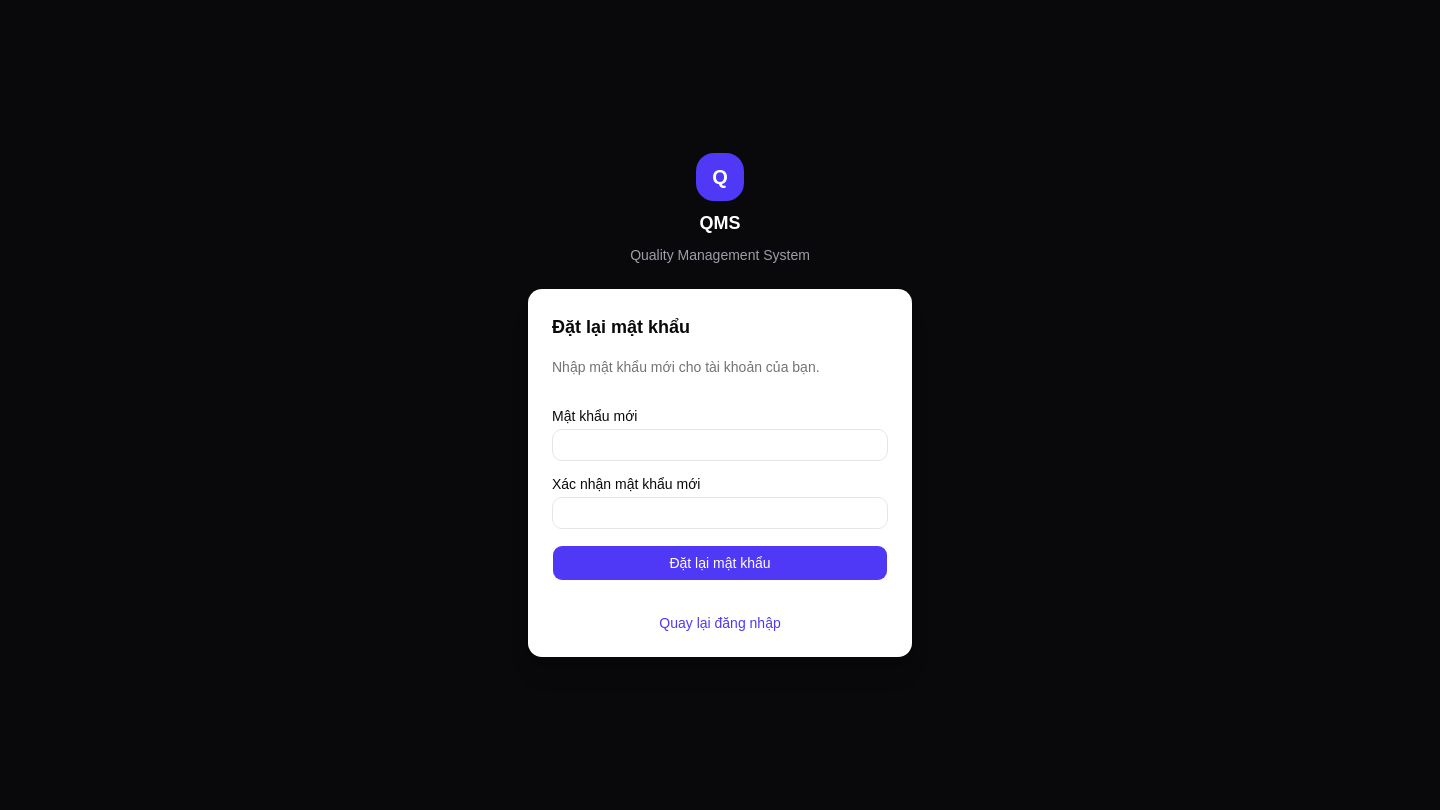
Test: ResetPasswordPage › redirects to /login on success
Type "password123" into the password field labelled "Mật khẩu mới" at (720, 445), box left=552, top=429, right=888, bottom=461
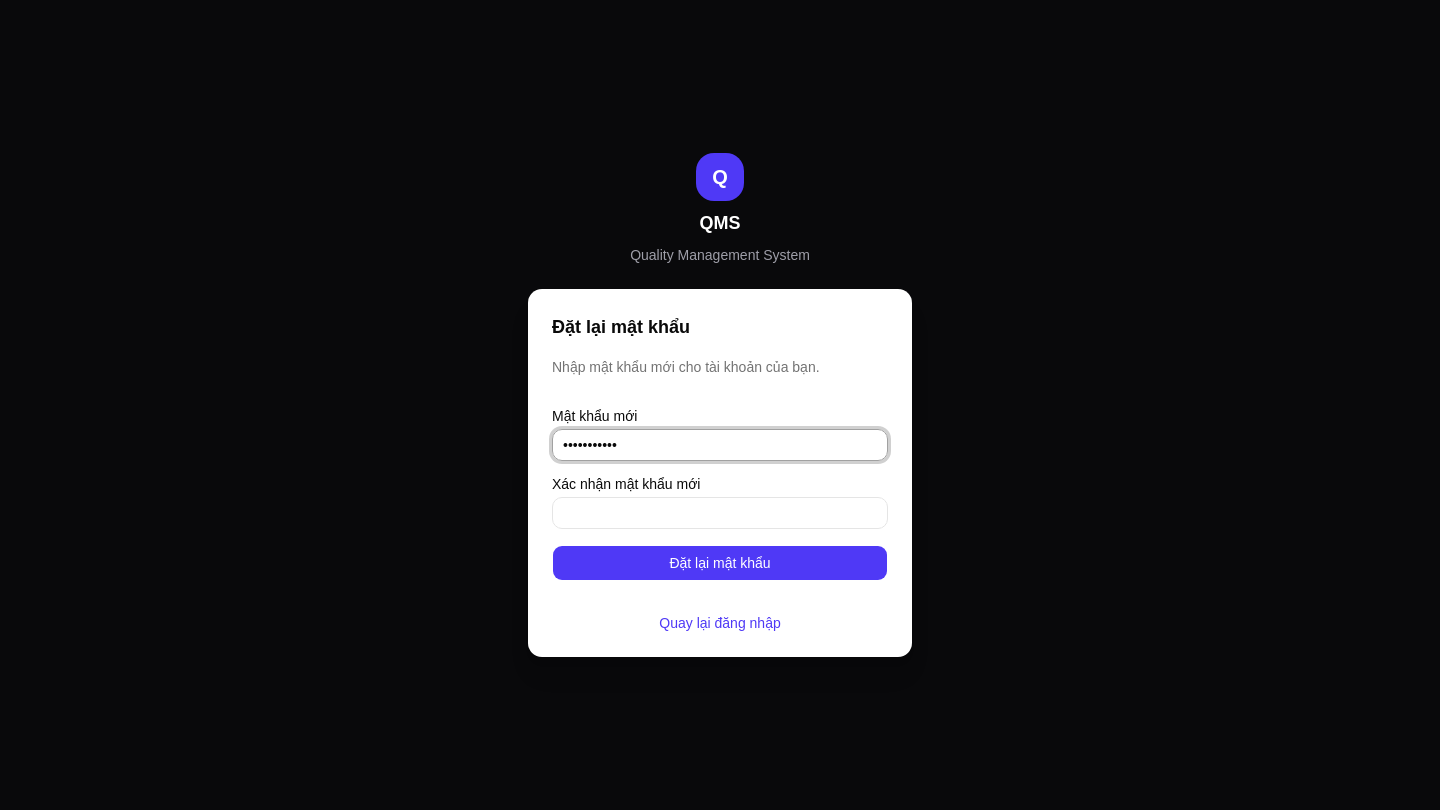
Type "password123" into the password field labelled "Xác nhận mật khẩu mới" at (720, 513), box left=552, top=497, right=888, bottom=529
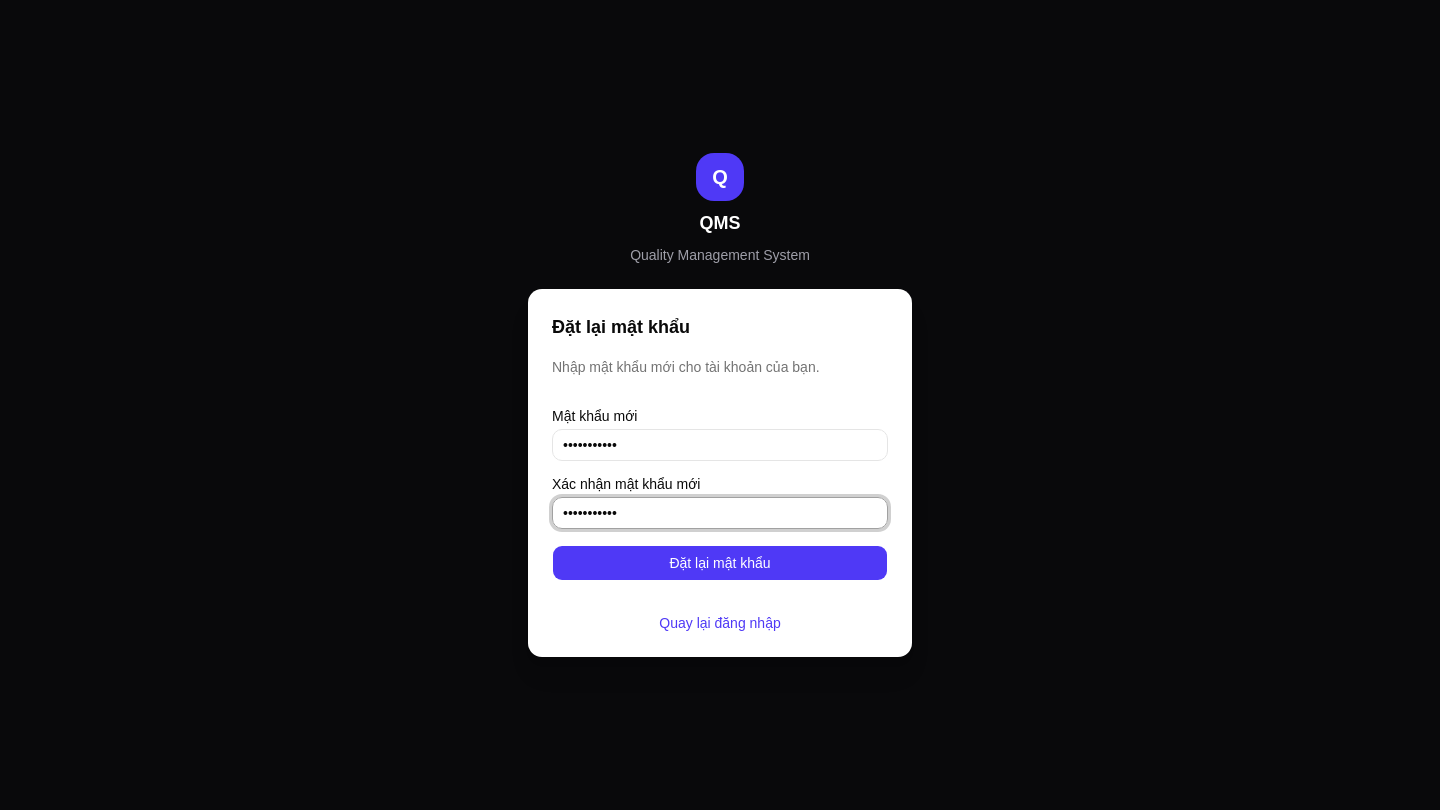
Click the button "Đặt lại mật khẩu" at (720, 563), box left=552, top=545, right=888, bottom=581
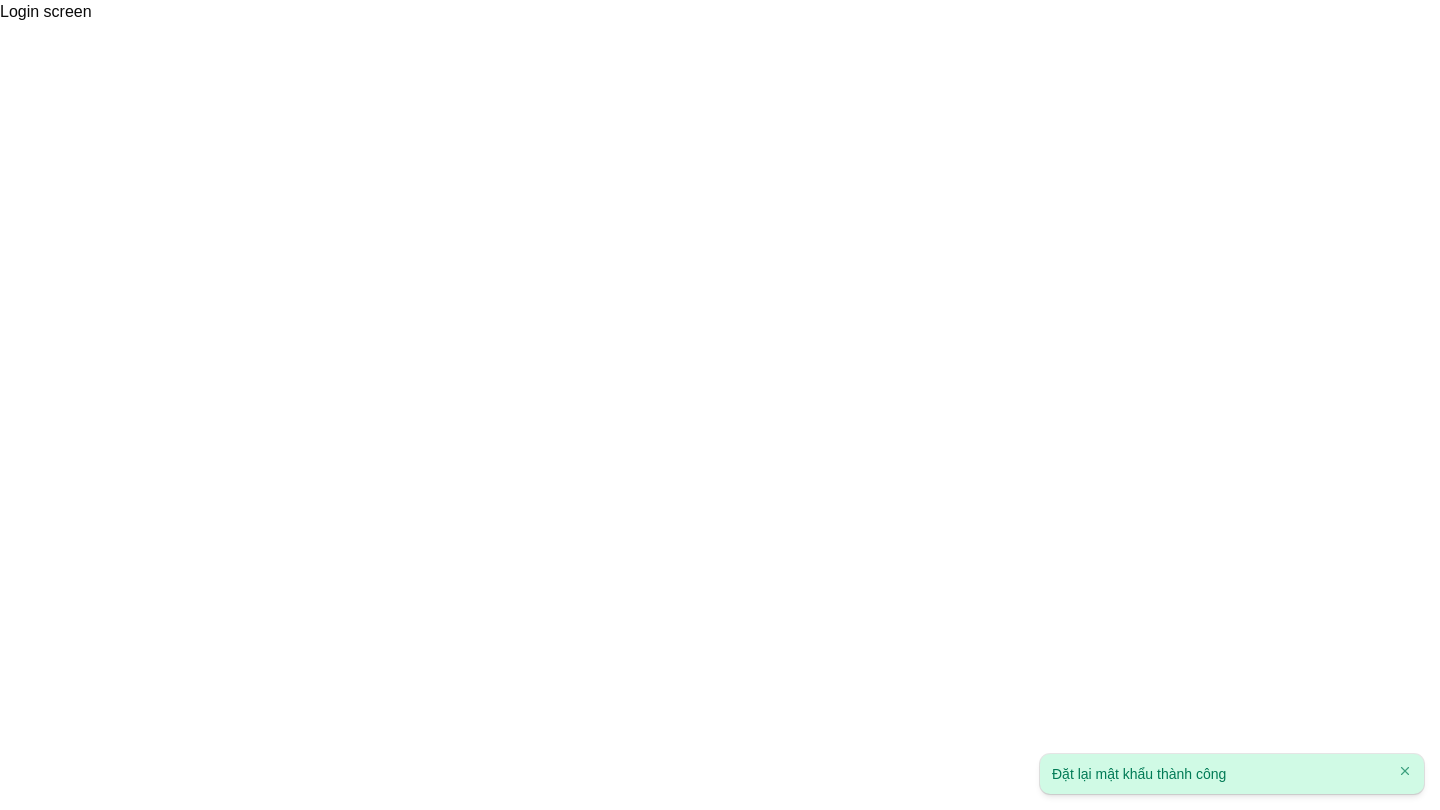
Check: the text "Login screen" is shown, box left=0, top=3, right=92, bottom=20
